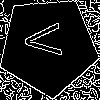V: (23, 21, 72, 59)
